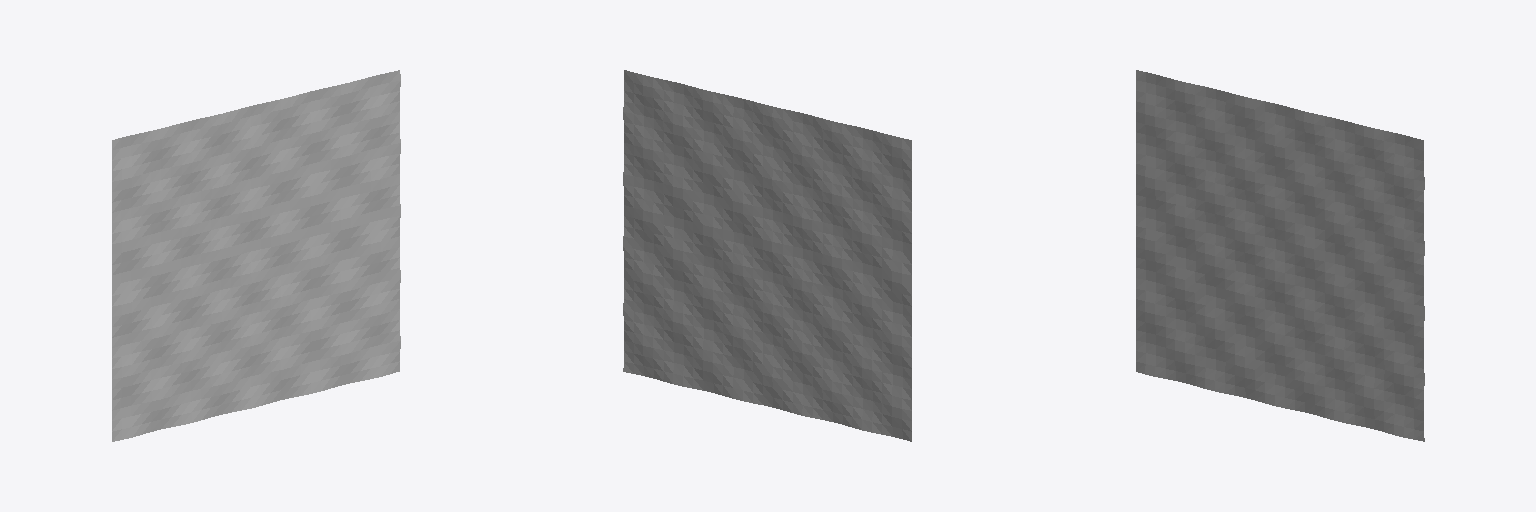
Rendered from terrain.obj.
The picture shows the model from 3 angles: view 1: azimuth 30°, elevation 25°; view 2: azimuth 150°, elevation 25°; view 3: azimuth 330°, elevation 25°; orthographic projection.
Visible parts, largest first — view 1: Terrain; view 2: Terrain; view 3: Terrain.
Part boxes in pixels (x1,y1,x2,y2): Terrain: (112,70,400,441); Terrain: (623,70,911,441); Terrain: (1136,70,1424,441).
Bounding box in the file's own units: 29 × 29 × 0.2.